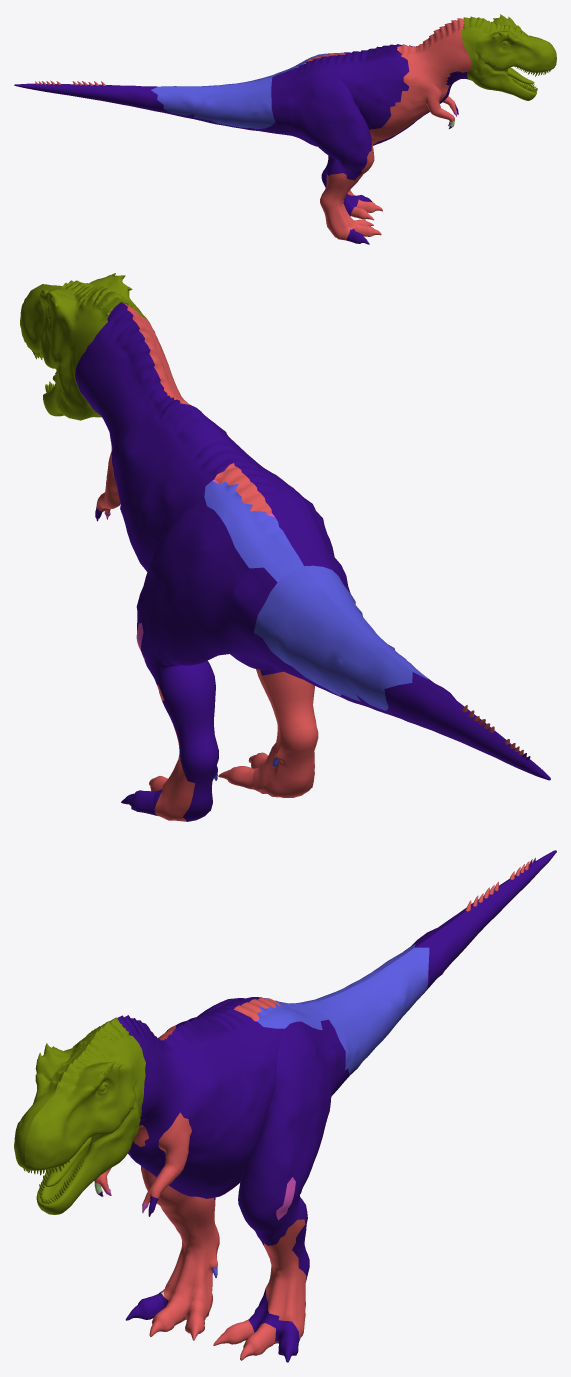
The model's file is Trex1.obj.
3 views of the same model, one above another, from view 1: azimuth 30°, elevation 25°; view 2: azimuth 150°, elevation 25°; view 3: azimuth 270°, elevation 25° (orthographic). The views are drawn at different scales.
Parts seen in each view (by area): view 1: DrawCall_0001, DrawCall_0003, DrawCall_0006, DrawCall_0005; view 2: DrawCall_0001, DrawCall_0005, DrawCall_0003, DrawCall_0006; view 3: DrawCall_0001, DrawCall_0006, DrawCall_0003, DrawCall_0005.
Boxes of the visible parts, x1,y1,x2,y2 form: DrawCall_0001: [14, 38, 467, 244]; DrawCall_0003: [35, 18, 471, 240]; DrawCall_0006: [461, 14, 556, 100]; DrawCall_0005: [151, 52, 341, 129]; DrawCall_0001: [75, 302, 550, 821]; DrawCall_0005: [204, 481, 427, 780]; DrawCall_0003: [96, 302, 530, 821]; DrawCall_0006: [20, 273, 148, 420]; DrawCall_0001: [98, 850, 556, 1362]; DrawCall_0006: [14, 1017, 145, 1214]; DrawCall_0003: [94, 859, 534, 1360]; DrawCall_0005: [211, 944, 429, 1277].
Size of the model in its own units: 21.36 by 10.54 by 13.36.
